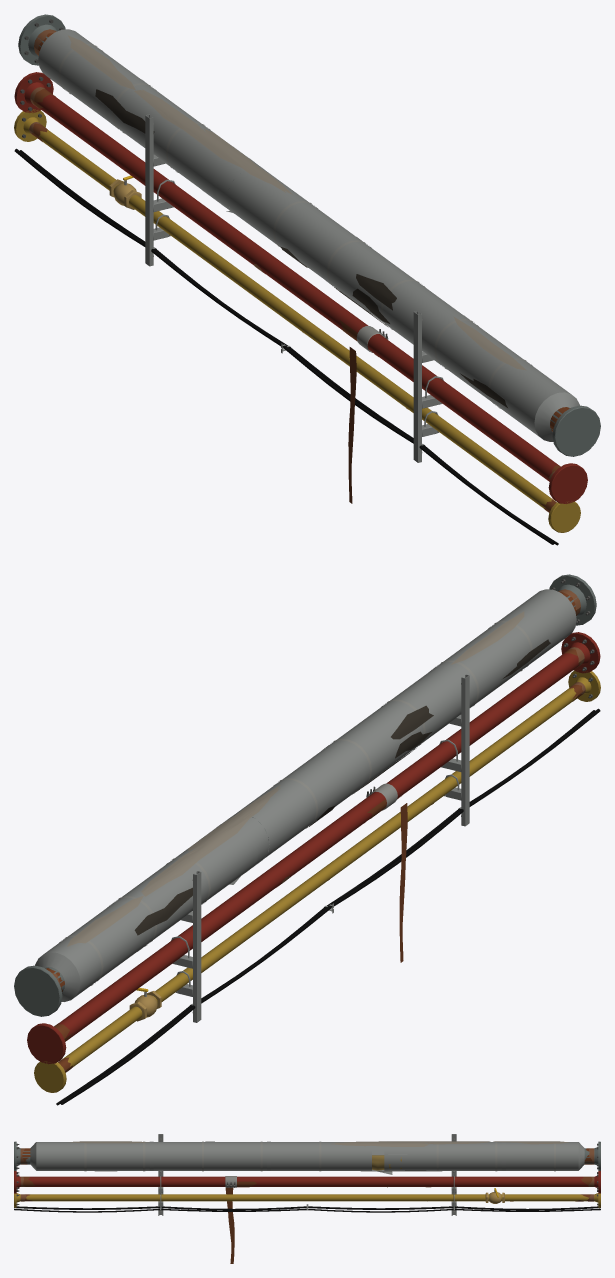
Rendered from pipe_bundle_b.glb.
The picture shows the model from 3 angles, top to bottom: view 1: azimuth 30°, elevation 25°; view 2: azimuth 150°, elevation 25°; view 3: azimuth 270°, elevation 25°; orthographic projection. The views are drawn at different scales.
Parts seen in each view (by area): view 1: rohrbuendel_b10, rohrbuendel_b4, rohrbuendel_b5, rohrbuendel_b12, rohrbuendel_b7, rohrbuendel_b6, rohrbuendel_b0, rohrbuendel_b11, rohrbuendel_b2, rohrbuendel_b8; view 2: rohrbuendel_b10, rohrbuendel_b4, rohrbuendel_b5, rohrbuendel_b12, rohrbuendel_b7, rohrbuendel_b6, rohrbuendel_b0, rohrbuendel_b11, rohrbuendel_b2, rohrbuendel_b8; view 3: rohrbuendel_b10, rohrbuendel_b4, rohrbuendel_b5, rohrbuendel_b6, rohrbuendel_b12, rohrbuendel_b2, rohrbuendel_b8, rohrbuendel_b7, rohrbuendel_b0, rohrbuendel_b3, rohrbuendel_b9, rohrbuendel_b13.
Boxes of the visible parts, left/top/right/bottom form: rohrbuendel_b10: left=38, top=29, right=579, bottom=441; rohrbuendel_b4: left=14, top=72, right=587, bottom=503; rohrbuendel_b5: left=14, top=109, right=580, bottom=532; rohrbuendel_b12: left=68, top=35, right=526, bottom=370; rohrbuendel_b7: left=145, top=114, right=443, bottom=462; rohrbuendel_b6: left=14, top=148, right=558, bottom=545; rohrbuendel_b0: left=18, top=14, right=600, bottom=456; rohrbuendel_b11: left=95, top=89, right=507, bottom=407; rohrbuendel_b2: left=31, top=33, right=570, bottom=512; rohrbuendel_b8: left=58, top=43, right=532, bottom=452; rohrbuendel_b10: left=35, top=589, right=576, bottom=1001; rohrbuendel_b4: left=27, top=632, right=600, bottom=1064; rohrbuendel_b5: left=34, top=670, right=600, bottom=1092; rohrbuendel_b12: left=67, top=611, right=524, bottom=946; rohrbuendel_b7: left=171, top=674, right=469, bottom=1022; rohrbuendel_b6: left=56, top=708, right=600, bottom=1105; rohrbuendel_b0: left=14, top=574, right=596, bottom=1016; rohrbuendel_b11: left=134, top=639, right=550, bottom=935; rohrbuendel_b2: left=46, top=592, right=582, bottom=1072; rohrbuendel_b8: left=59, top=621, right=532, bottom=1012; rohrbuendel_b10: left=30, top=1141, right=584, bottom=1174; rohrbuendel_b4: left=14, top=1171, right=600, bottom=1193; rohrbuendel_b5: left=14, top=1193, right=600, bottom=1207; rohrbuendel_b6: left=14, top=1206, right=600, bottom=1212; rohrbuendel_b12: left=69, top=1141, right=568, bottom=1146; rohrbuendel_b2: left=22, top=1148, right=592, bottom=1263; rohrbuendel_b8: left=84, top=1138, right=555, bottom=1212; rohrbuendel_b7: left=158, top=1134, right=456, bottom=1215; rohrbuendel_b0: left=14, top=1141, right=600, bottom=1170; rohrbuendel_b3: left=20, top=1148, right=594, bottom=1201; rohrbuendel_b9: left=372, top=1155, right=401, bottom=1170; rohrbuendel_b13: left=485, top=1192, right=504, bottom=1203.
Size of the model in its own units: 0.2775 by 1.22 by 5.
